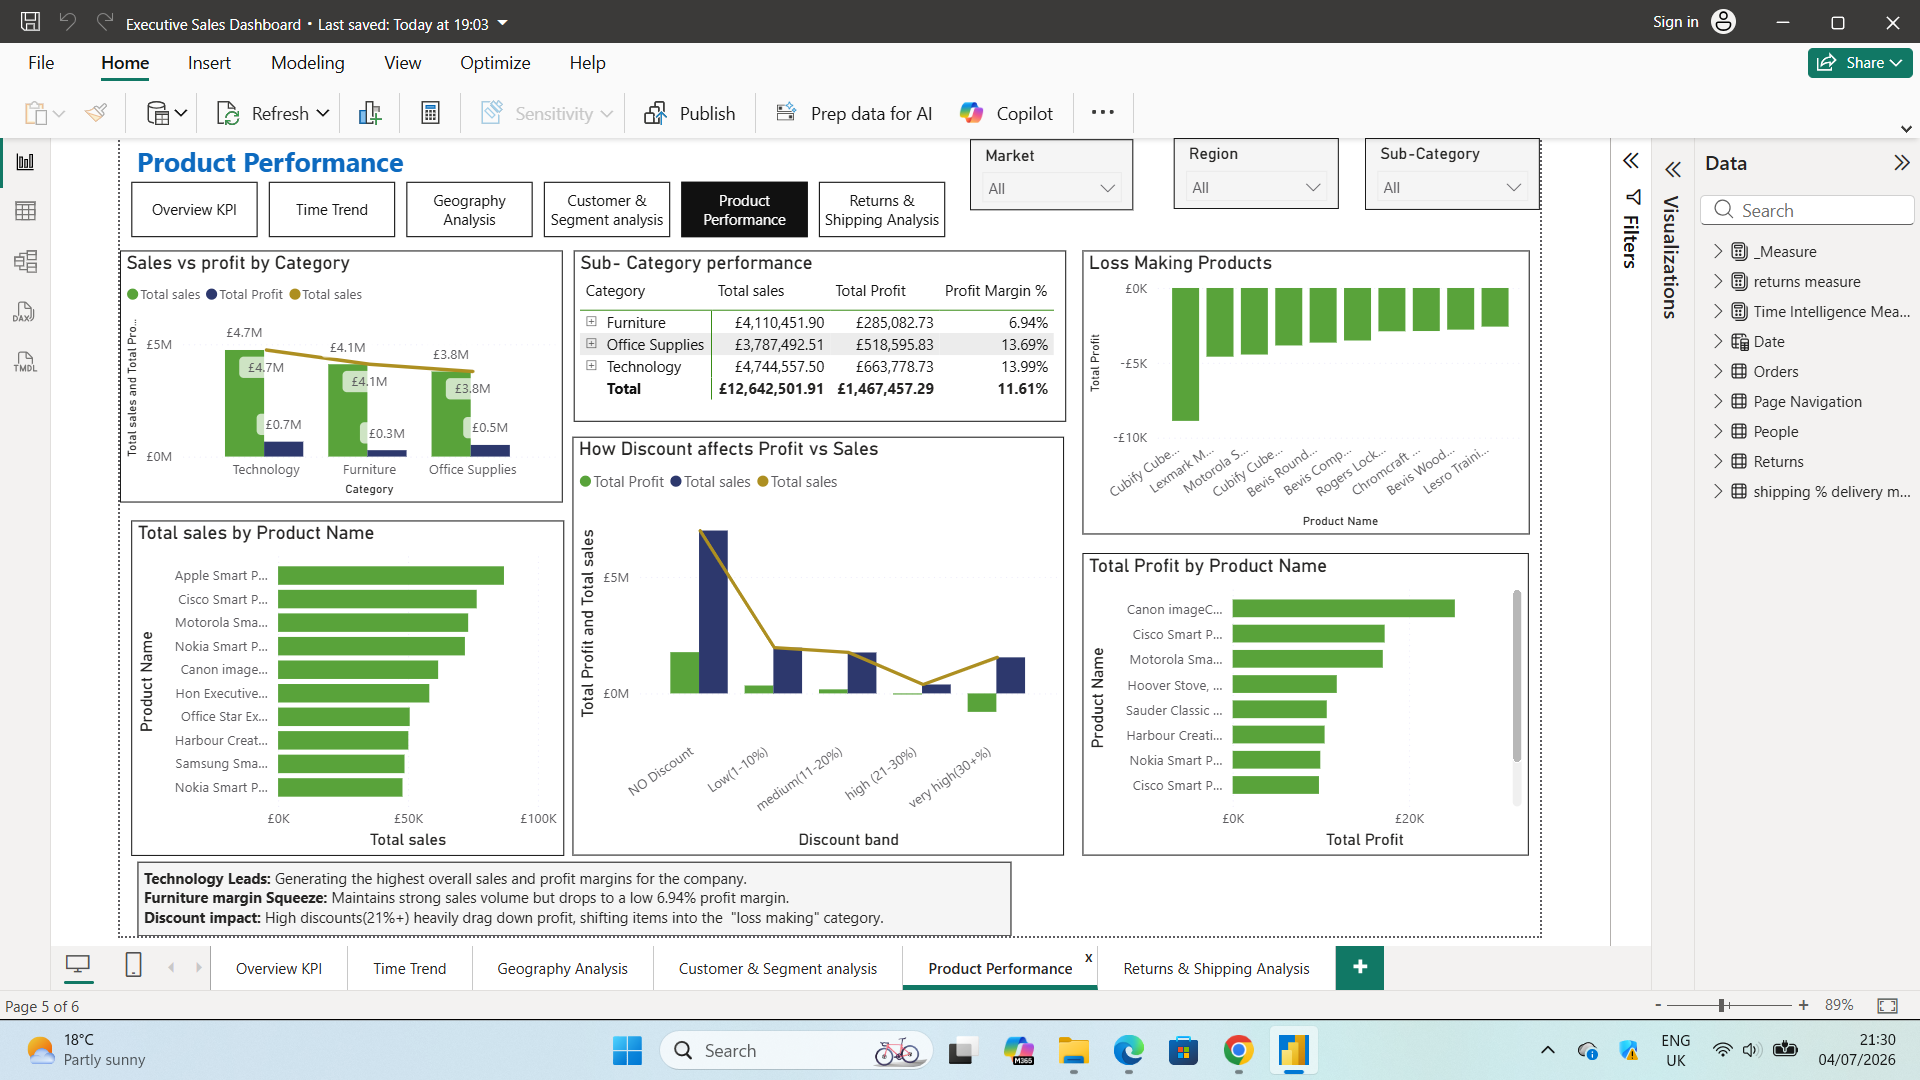

The page's visual inventory and layout, read from the dashboard file:
{"tool":"powerbi","page":{"name":"Product Performance","canvas":[1280,720],"ordinal":4},"visuals":[{"type":"textbox","box":[9.7,0,279.7,57],"z":0},{"type":"lineClusteredColumnComboChart","title":"Sales  vs profit by Category","fields":{"Category":["Orders.Category"],"Y":["_Measure.Total sales","_Measure.Total Profit"],"Y2":["_Measure.Total sales"]},"box":[0,101.2,399.1,227],"z":1000},{"type":"pivotTable","title":"Sub- Category performance","fields":{"Rows":["Orders.Category","Orders.Sub-Category"],"Values":["_Measure.Total sales","_Measure.Total Profit","_Measure.Profit Margin %"]},"box":[409.2,101.2,443.9,154.7],"z":2000},{"type":"barChart","fields":{"Category":["Orders.Product Name"],"Y":["_Measure.Total sales"]},"box":[9.8,344.8,390.1,302],"z":3000},{"type":"barChart","fields":{"Y":["_Measure.Total Profit"],"Category":["Orders.Product Name"]},"box":[868.2,374.2,402.3,272.7],"z":4000},{"type":"clusteredColumnChart","title":"Loss Making Products","fields":{"Category":["Orders.Product Name"],"Y":["_Measure.Total Profit"]},"box":[867.6,101.2,403.4,255.9],"z":5000},{"type":"lineClusteredColumnComboChart","title":"How Discount affects Profit vs Sales","fields":{"Category":["Orders.Discount band"],"Y":["_Measure.Total Profit","_Measure.Total sales"],"Y2":["_Measure.Total sales"]},"box":[408.4,269.4,443.1,377.4],"z":6000},{"type":"slicer","fields":{"Values":["Orders.Market"]},"box":[766.4,1.4,147.5,63.6],"z":7000},{"type":"slicer","fields":{"Values":["Orders.Region"]},"box":[950,0,148.9,63.6],"z":8000},{"type":"slicer","fields":{"Values":["Orders.Sub-Category"]},"box":[1122.1,0,157.6,65.1],"z":9000},{"type":"pageNavigator","box":[10.1,39,737.5,50.6],"z":10000},{"type":"textbox","box":[16.1,652.9,788.2,67],"z":11000}]}

Visuals, with their boxes on the page's 1280x720 design canvas (x1, y1, x2, y2). These are canvas units, not pixel positions in the 1920x1080 screenshot, which may show the page scaled, cropped or inside an application window:
textbox: [x1=10, y1=0, x2=289, y2=57]
"Sales  vs profit by Category" lineClusteredColumnComboChart: [x1=0, y1=101, x2=399, y2=328]
"Sub- Category performance" pivotTable: [x1=409, y1=101, x2=853, y2=256]
barChart - Orders.Product Name x _Measure.Total sales: [x1=10, y1=345, x2=400, y2=647]
barChart - _Measure.Total Profit x Orders.Product Name: [x1=868, y1=374, x2=1270, y2=647]
"Loss Making Products" clusteredColumnChart: [x1=868, y1=101, x2=1271, y2=357]
"How Discount affects Profit vs Sales" lineClusteredColumnComboChart: [x1=408, y1=269, x2=852, y2=647]
slicer - Orders.Market: [x1=766, y1=1, x2=914, y2=65]
slicer - Orders.Region: [x1=950, y1=0, x2=1099, y2=64]
slicer - Orders.Sub-Category: [x1=1122, y1=0, x2=1280, y2=65]
pageNavigator: [x1=10, y1=39, x2=748, y2=90]
textbox: [x1=16, y1=653, x2=804, y2=720]
